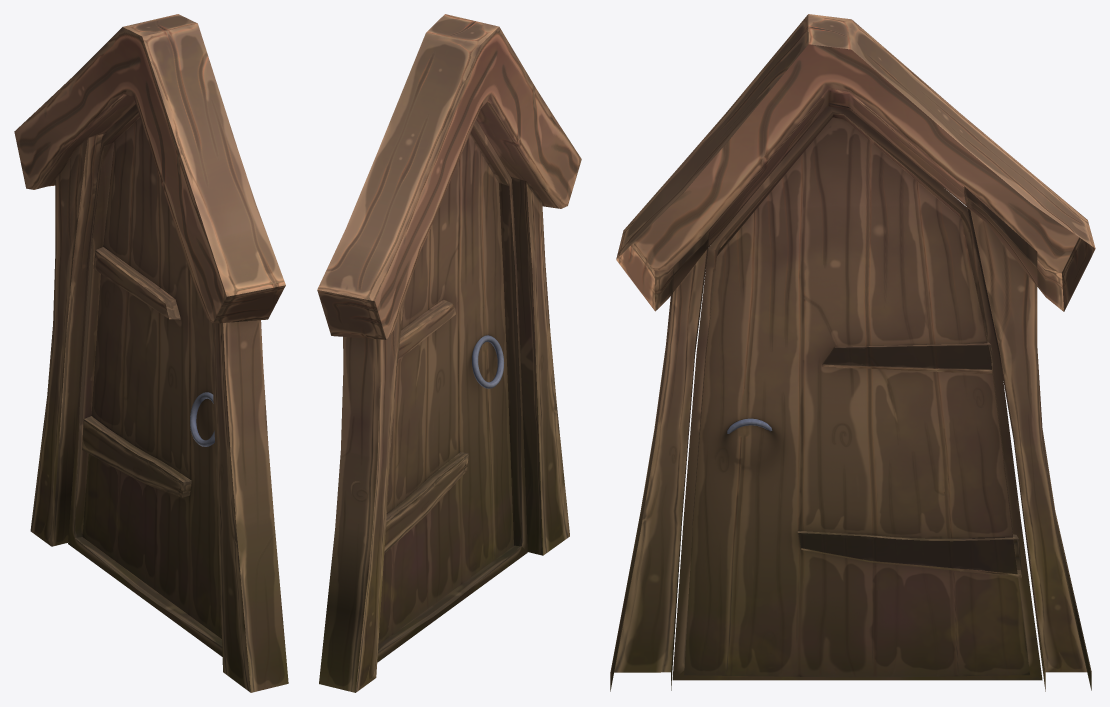
File: SM_Door_01.fbx
3 renders of one model, left to right at view 1: azimuth 30°, elevation 25°; view 2: azimuth 150°, elevation 25°; view 3: azimuth 270°, elevation 25°, orthographic. The views are drawn at different scales.
Parts seen in each view (by area): view 1: SM_Door_01_LOD0; view 2: SM_Door_01_LOD0; view 3: SM_Door_01_LOD0.
Part boxes in pixels (x1,y1,x2,y2): SM_Door_01_LOD0: (14,14,288,692); SM_Door_01_LOD0: (317,14,581,692); SM_Door_01_LOD0: (610,14,1095,691).
Bounding box in the file's own units: 26.42 × 182 × 269.
Materials: 1 (1 with a texture image).
